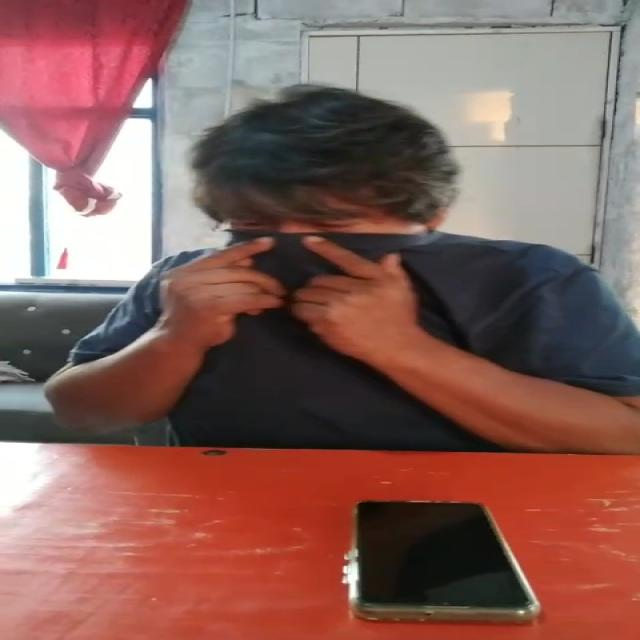8_ropa_rostro: (162, 228, 549, 334)
